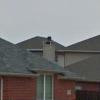Chimney: (34, 29, 65, 72)
